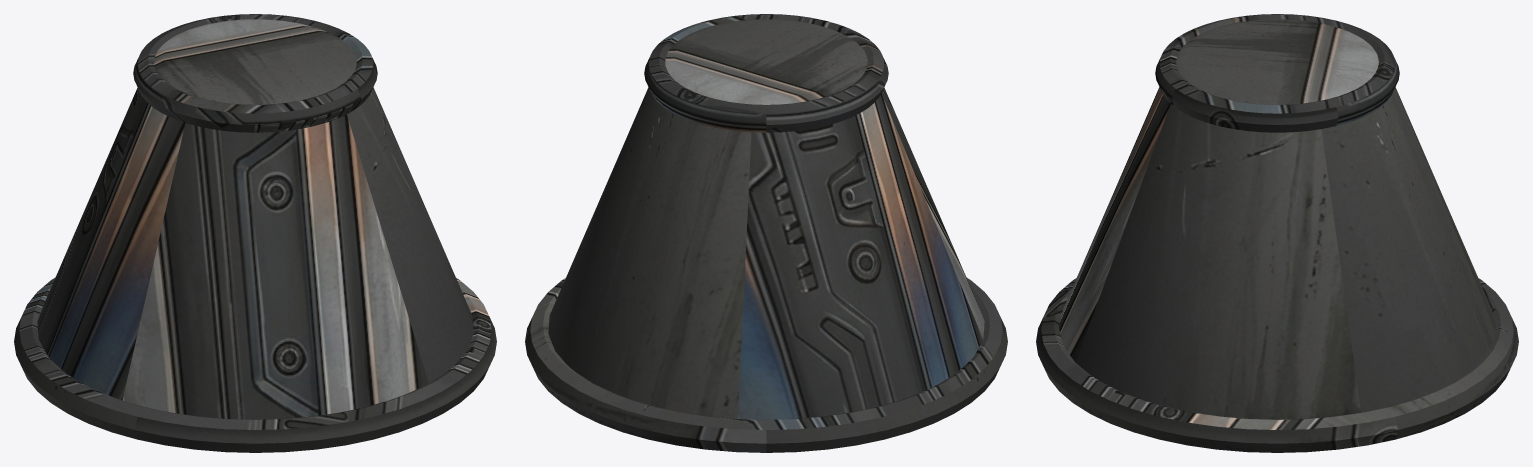
File: thruster.obj
3 views of the same model, side by side, from view 1: azimuth 30°, elevation 25°; view 2: azimuth 150°, elevation 25°; view 3: azimuth 270°, elevation 25° (orthographic).
Visible parts, largest first — view 1: KP_Thruster; view 2: KP_Thruster; view 3: KP_Thruster.
Boxes of the visible parts, x1=… form: KP_Thruster: x1=14, y1=14, x2=496, y2=452; KP_Thruster: x1=525, y1=14, x2=1007, y2=452; KP_Thruster: x1=1036, y1=14, x2=1518, y2=452.
Size of the model in its own units: 3.24 by 2.21 by 3.24.
1 material, 1 textured.
